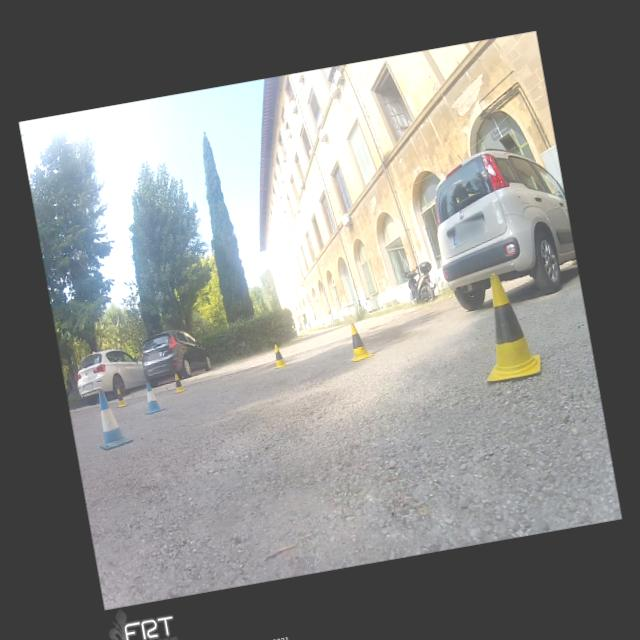blue_cone: (90, 386, 134, 450), (140, 380, 165, 414)
yellow_cone: (468, 268, 543, 382), (343, 319, 374, 362), (270, 342, 290, 368), (171, 372, 187, 392), (114, 387, 128, 407)
